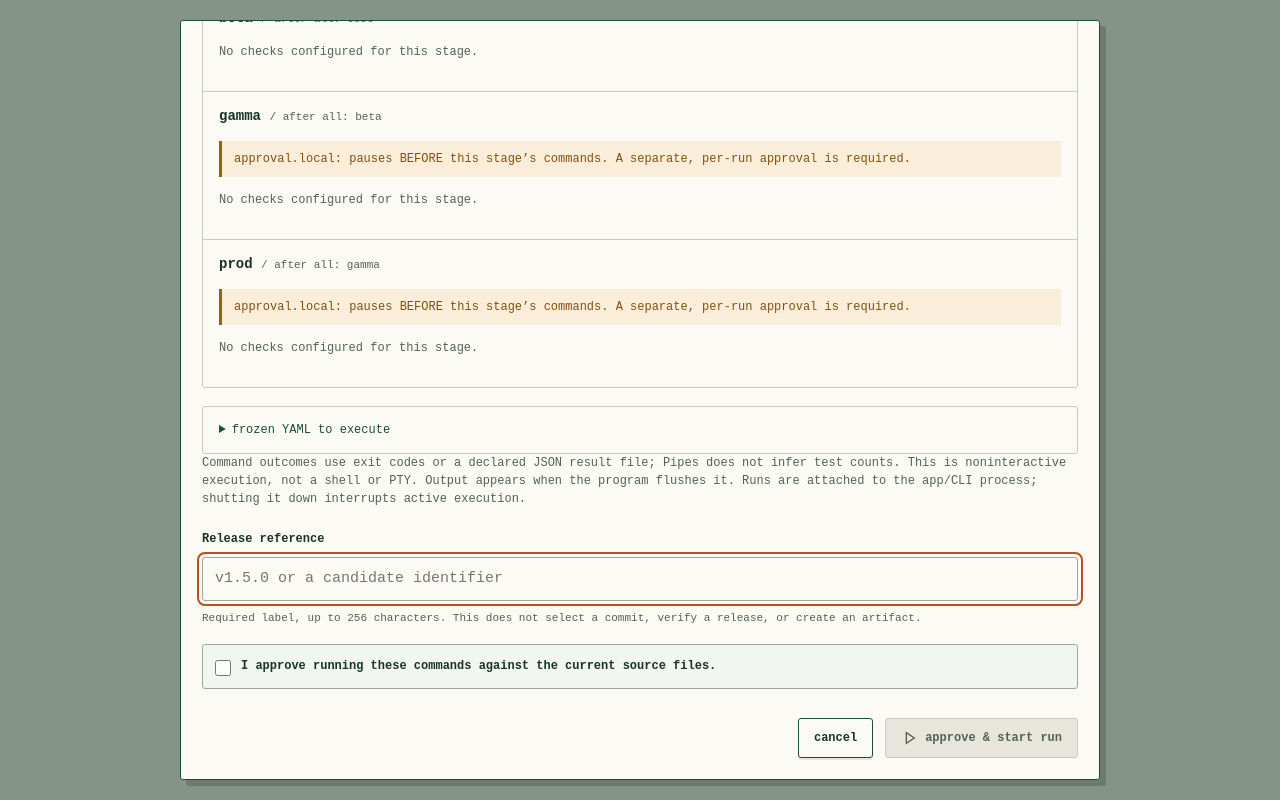
explicit execution review › invalidates stale review errors, including a same-hash registration revision change
(page scrolled)
In the field labelled "Release reference": (640, 579) [202, 556, 1078, 601], type "v1.5.0"
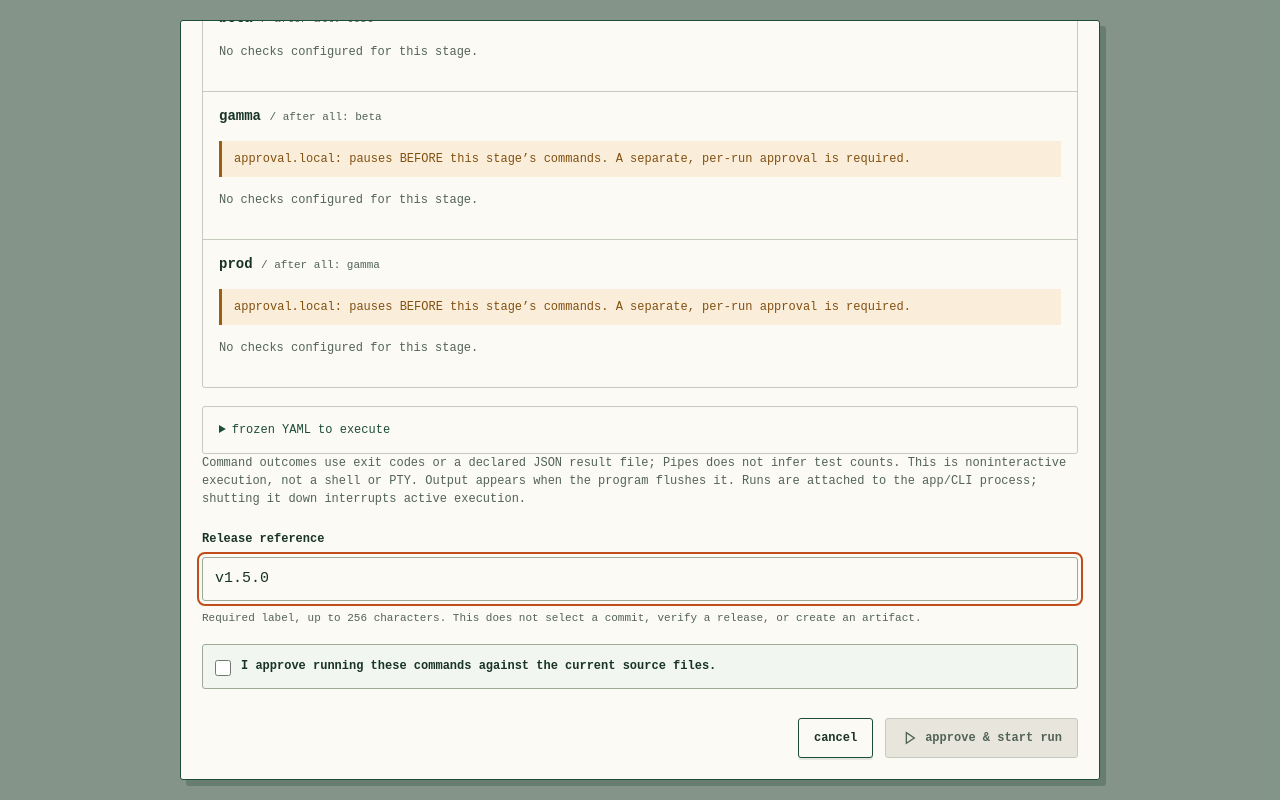
Click the checkbox: (223, 668) [215, 660, 231, 676]
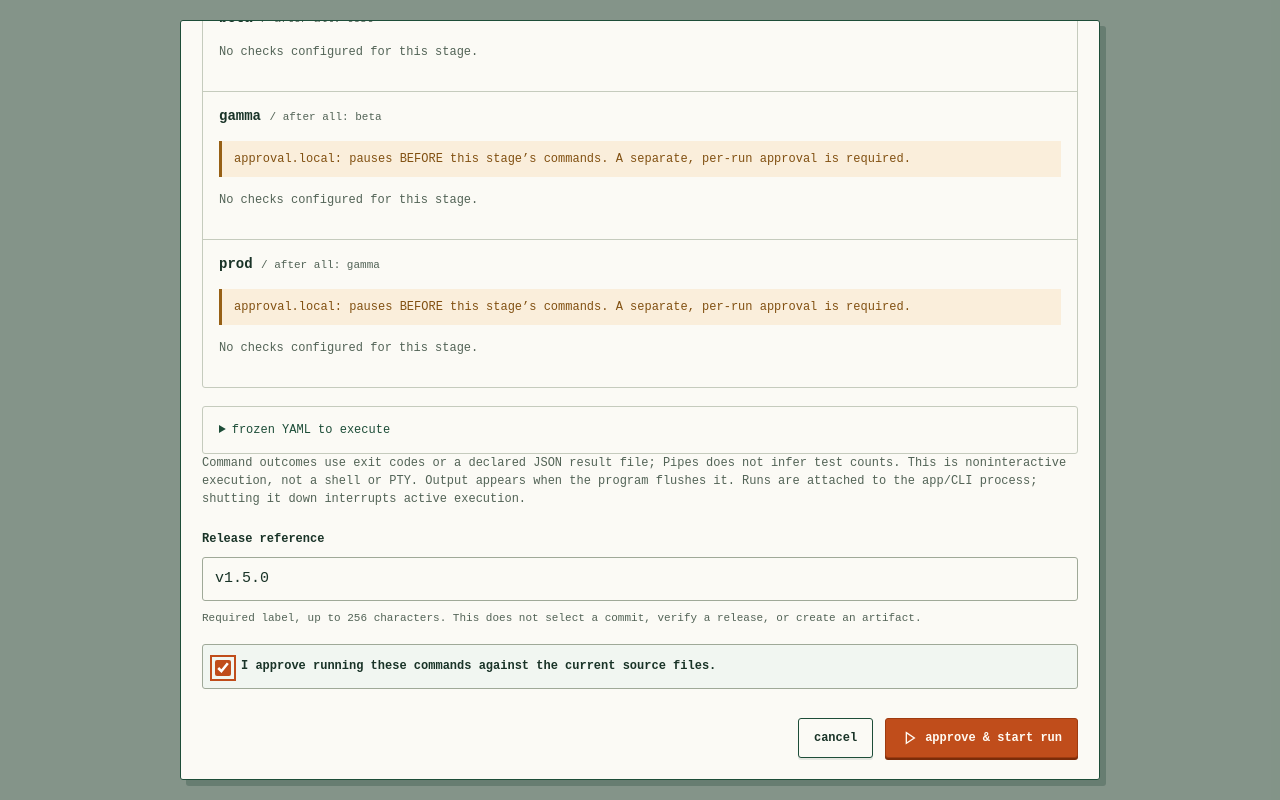
Click the button "approve & start run": (982, 738) [885, 718, 1078, 758]
(page scrolled)
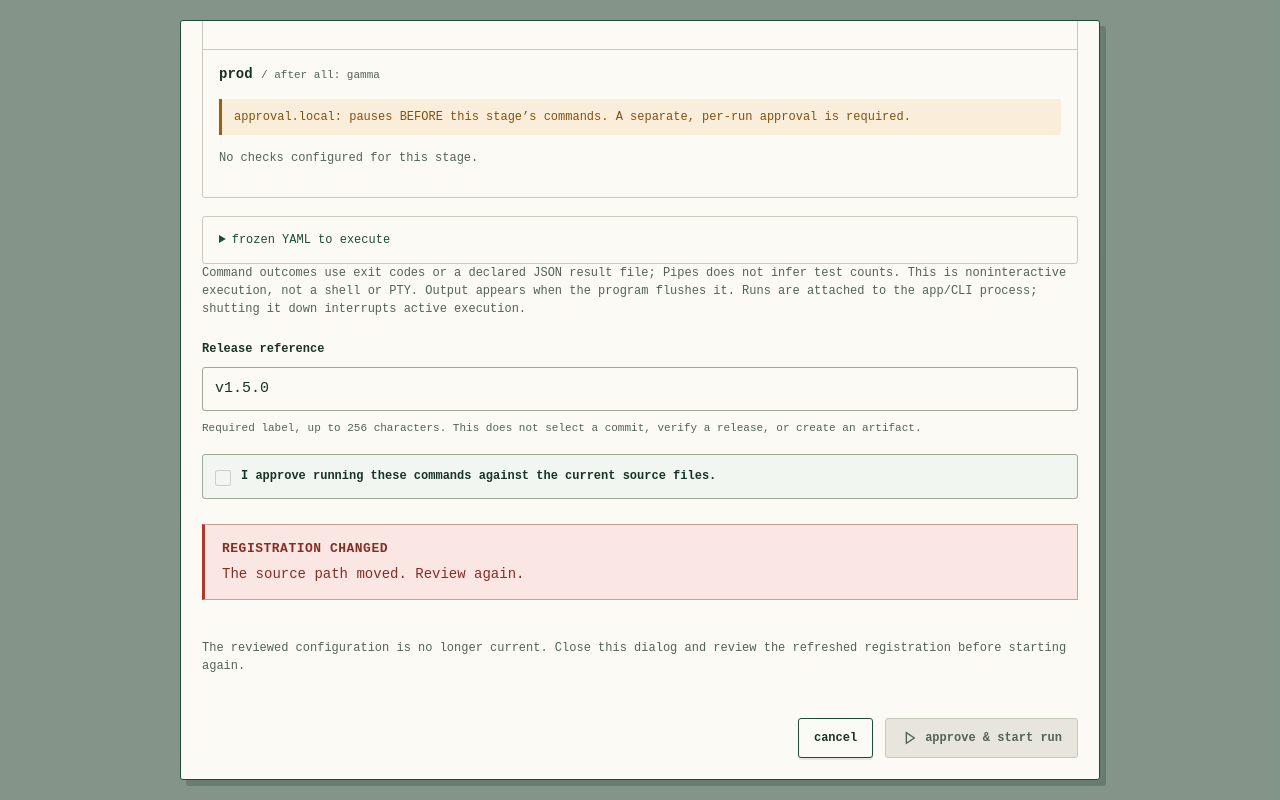
Expected: the checkbox is not checked, [215, 470, 231, 486]
Expected: the message shows "The source path moved", [222, 566, 524, 582]
Expected: the checkbox is disabled, [215, 470, 231, 486]
